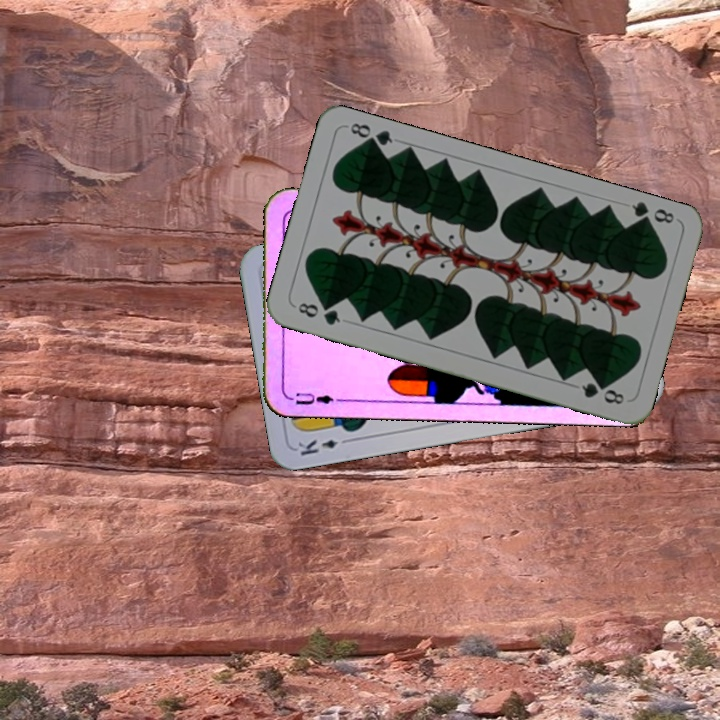EK: (294, 434, 353, 459)
EU: (284, 388, 343, 408)
G8: (627, 198, 677, 231), (294, 298, 343, 328)
